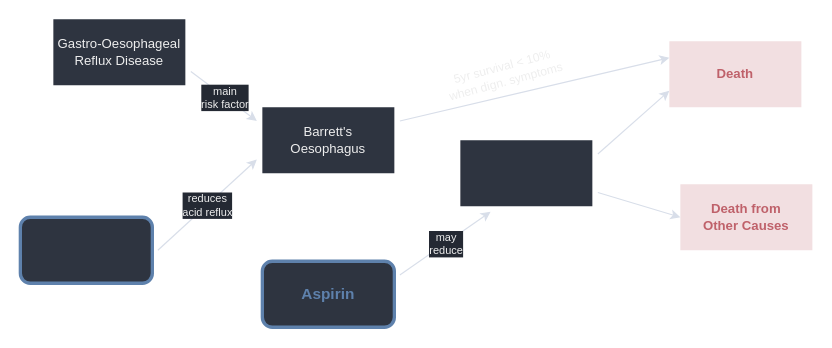
The diagram is 832 pixels wide and 348 high, and some of its shapes have lost their labels. Each missing label, with the box of its shape:
Esomeprazole (PPI): (18, 215, 153, 284)
Oesophageal Adenocarcinoma: (460, 140, 592, 206)
